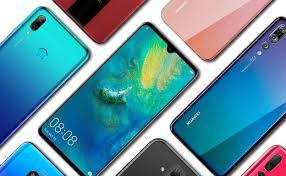Smartphone: (172, 12, 286, 176), (60, 36, 180, 176), (0, 9, 68, 122), (163, 0, 269, 66), (67, 0, 152, 45), (1, 133, 58, 176), (17, 176, 19, 176)
